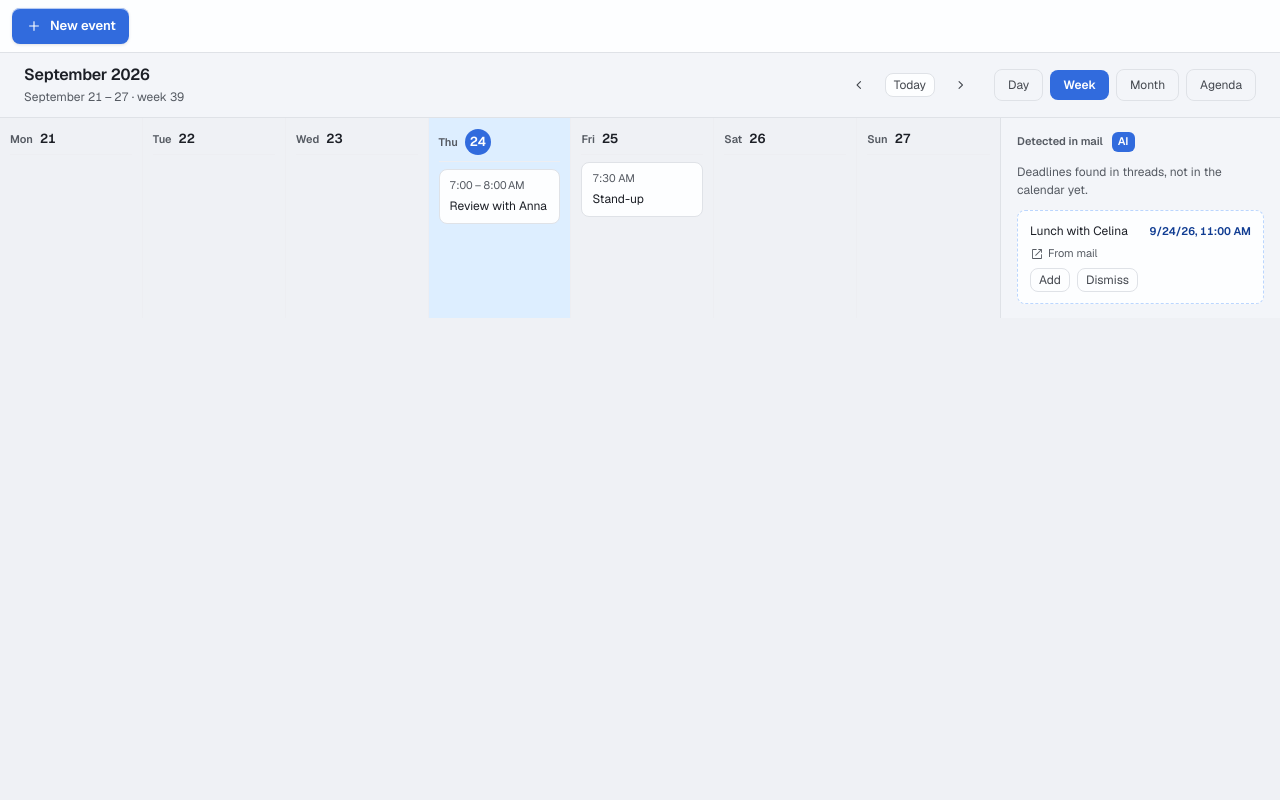
it: CalendarSpace › amends the event inside the dialog already drawing it, rather than opening that dialog a second time
The image size is (1280, 800).
Click the option "7:00 – 8:00 AM Review with Anna" at (500, 196), box [439,169,560,224]
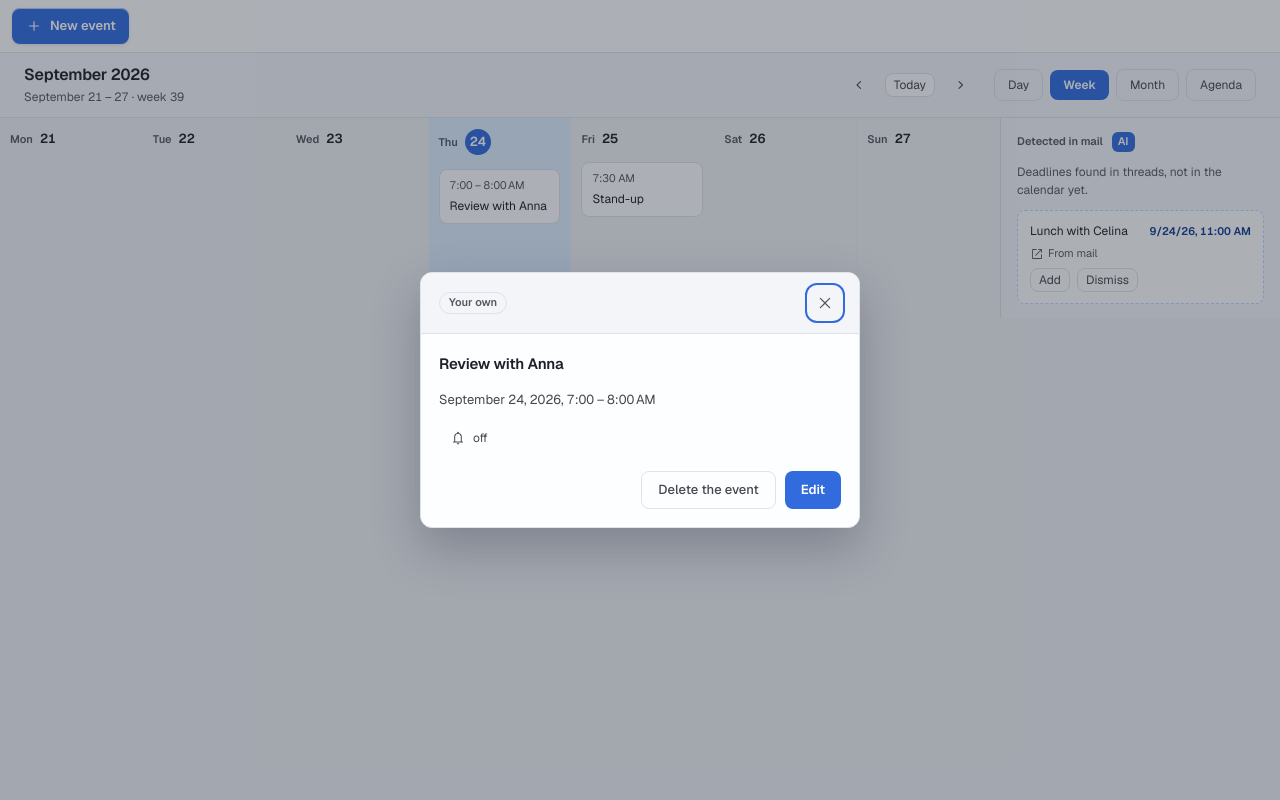
Click the button "Edit" at (813, 490), box [785,471,841,509]
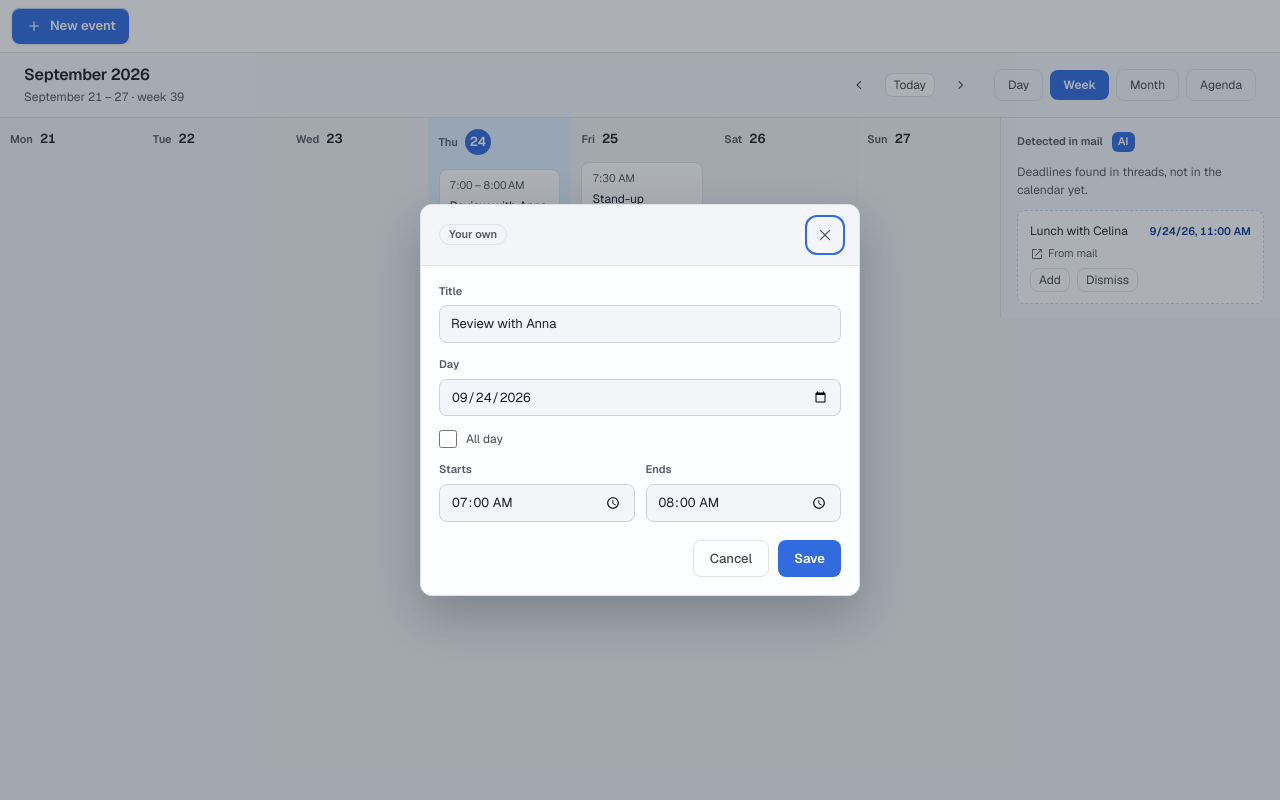
Replace the text in the field labelled "Title" with "Review with Celina" at (640, 324), box [439,306,841,343]
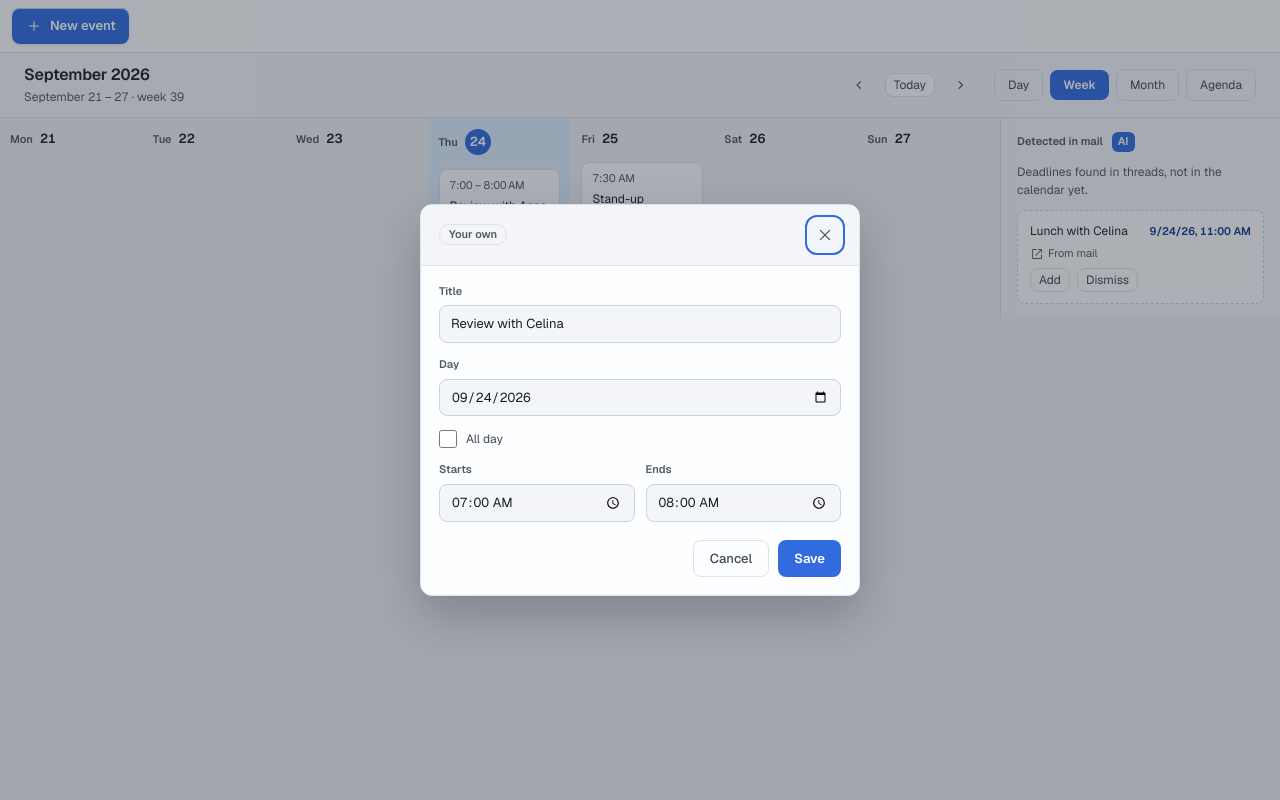
Click the button "Save" at (810, 559), box [778,540,841,578]
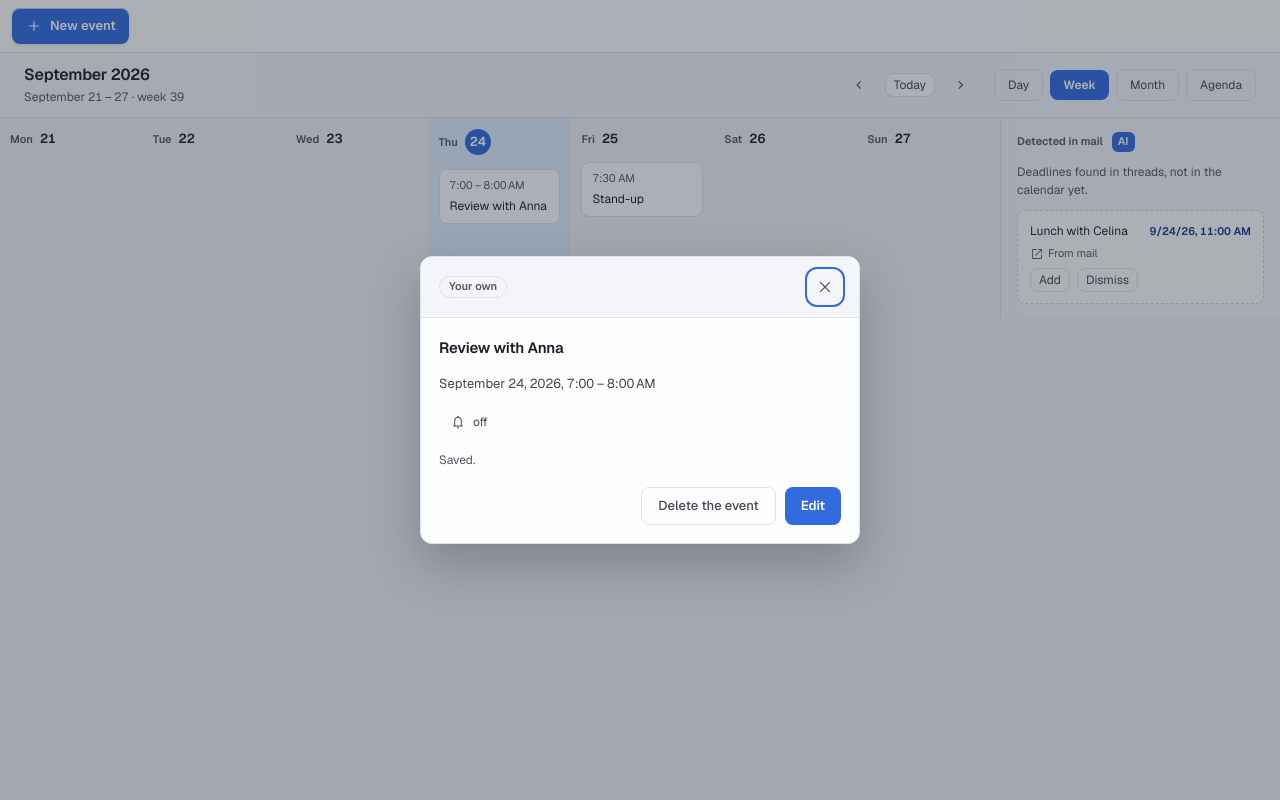
Now the text "Saved." is shown, box [439,452,475,468]
